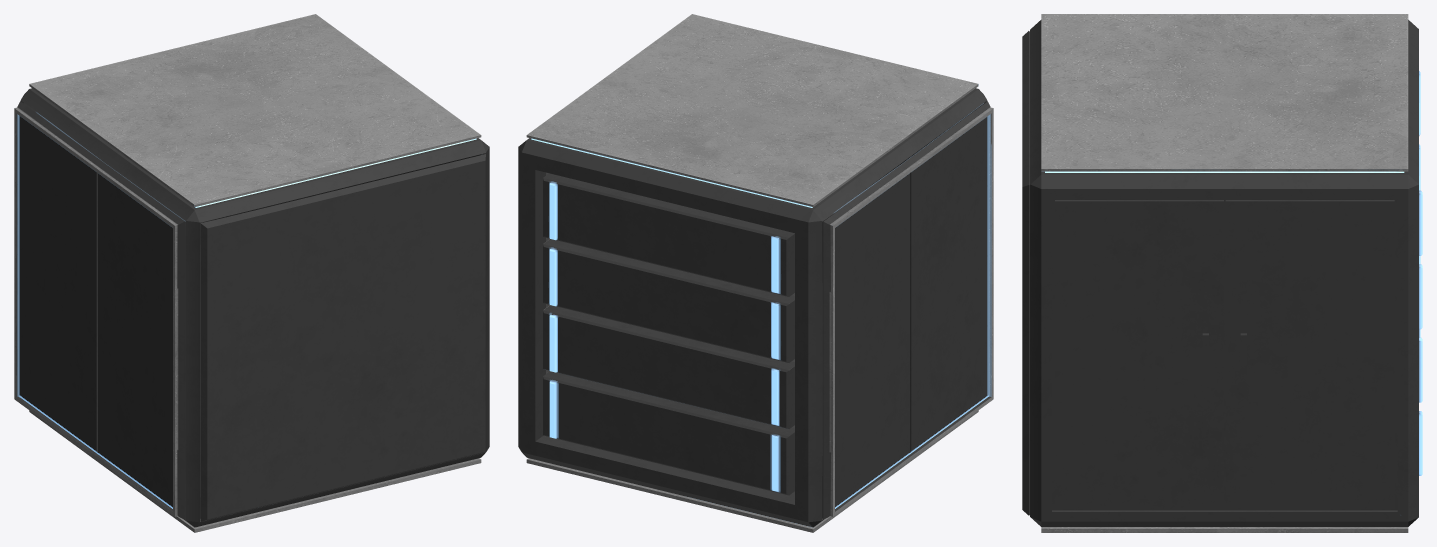
Rendered from Server-part-2.glb.
3 renders of one model, left to right at view 1: azimuth 30°, elevation 25°; view 2: azimuth 150°, elevation 25°; view 3: azimuth 270°, elevation 25°, orthographic. The views are drawn at different scales.
Parts seen in each view (by area): view 1: Server-part; view 2: Server-part; view 3: Server-part.
Part boxes in pixels (x1,y1,x2,y2): Server-part: (14,14,489,532); Server-part: (518,14,993,532); Server-part: (1022,14,1422,532).
Bounding box in the file's own units: 1.87 × 1.86 × 1.85.
1 material, 1 textured.
